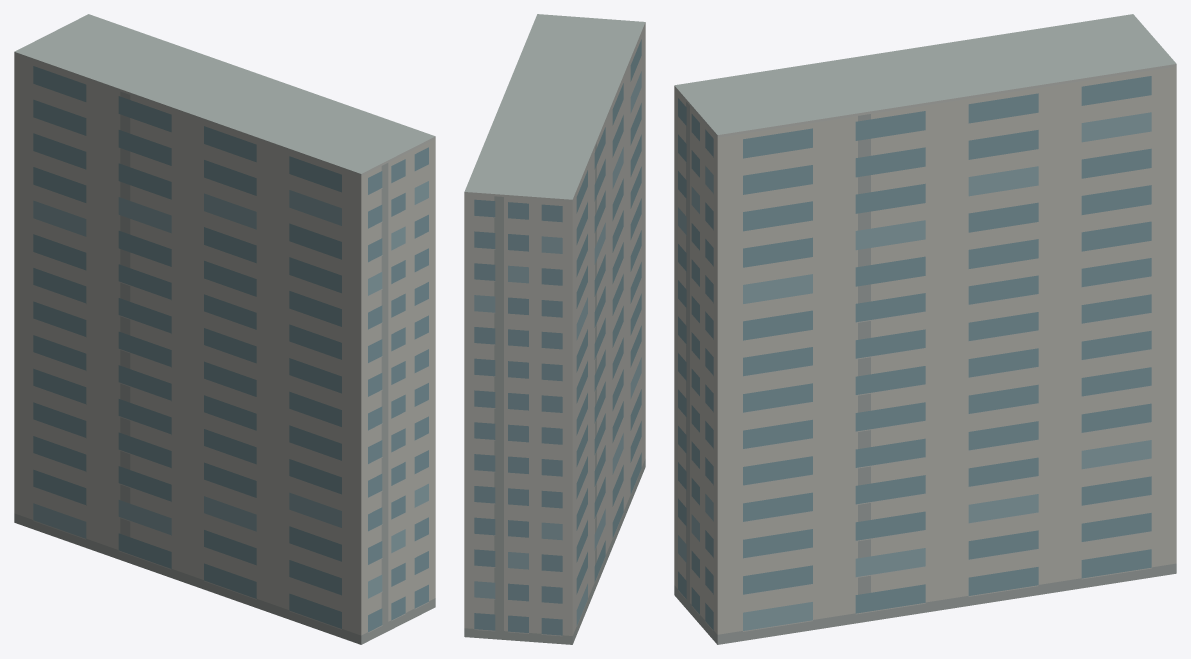
The model's file is residential-b5aabec9-0366-41f1-9b9e-3095c65ded6e.glb.
3 renders of one model, left to right at view 1: azimuth 30°, elevation 25°; view 2: azimuth 150°, elevation 25°; view 3: azimuth 270°, elevation 25°, orthographic. The views are drawn at different scales.
Visible parts, largest first — view 1: residential-b5aabec9-0366-41f1-9b9e-3095c65ded6e.tmp; view 2: residential-b5aabec9-0366-41f1-9b9e-3095c65ded6e.tmp; view 3: residential-b5aabec9-0366-41f1-9b9e-3095c65ded6e.tmp.
Part boxes in pixels (box(x1,y1,x2,y2)): residential-b5aabec9-0366-41f1-9b9e-3095c65ded6e.tmp: box(14, 14, 435, 644); residential-b5aabec9-0366-41f1-9b9e-3095c65ded6e.tmp: box(464, 14, 645, 644); residential-b5aabec9-0366-41f1-9b9e-3095c65ded6e.tmp: box(674, 14, 1176, 644).
Size of the model in its own units: 24.98 by 49 by 43.78.
